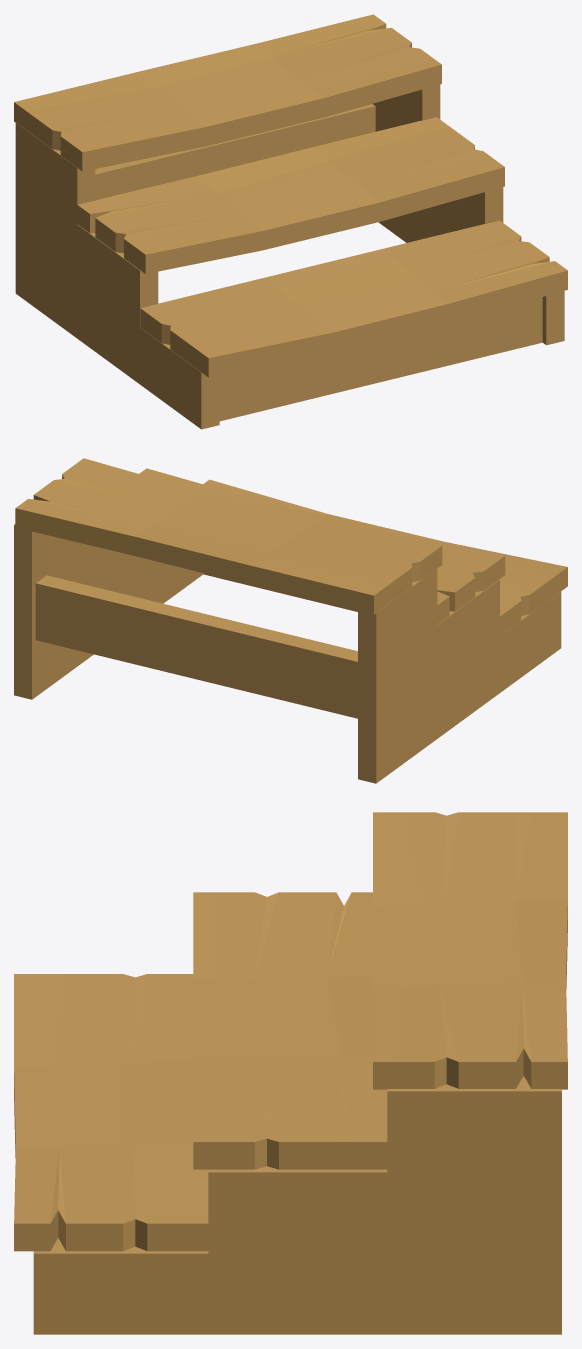
The model's file is Wood ladder.fbx.
3 views of the same model, one above another, from view 1: azimuth 30°, elevation 25°; view 2: azimuth 150°, elevation 25°; view 3: azimuth 270°, elevation 25° (orthographic). The views are drawn at different scales.
Parts seen in each view (by area): view 1: Steps_Small; view 2: Steps_Small; view 3: Steps_Small.
Part boxes in pixels (box(x1,y1,x2,y2)): Steps_Small: box(14, 14, 567, 429); Steps_Small: box(14, 458, 567, 783); Steps_Small: box(14, 812, 567, 1334).
Bounding box in the file's own units: 200 × 99.99 × 186.
